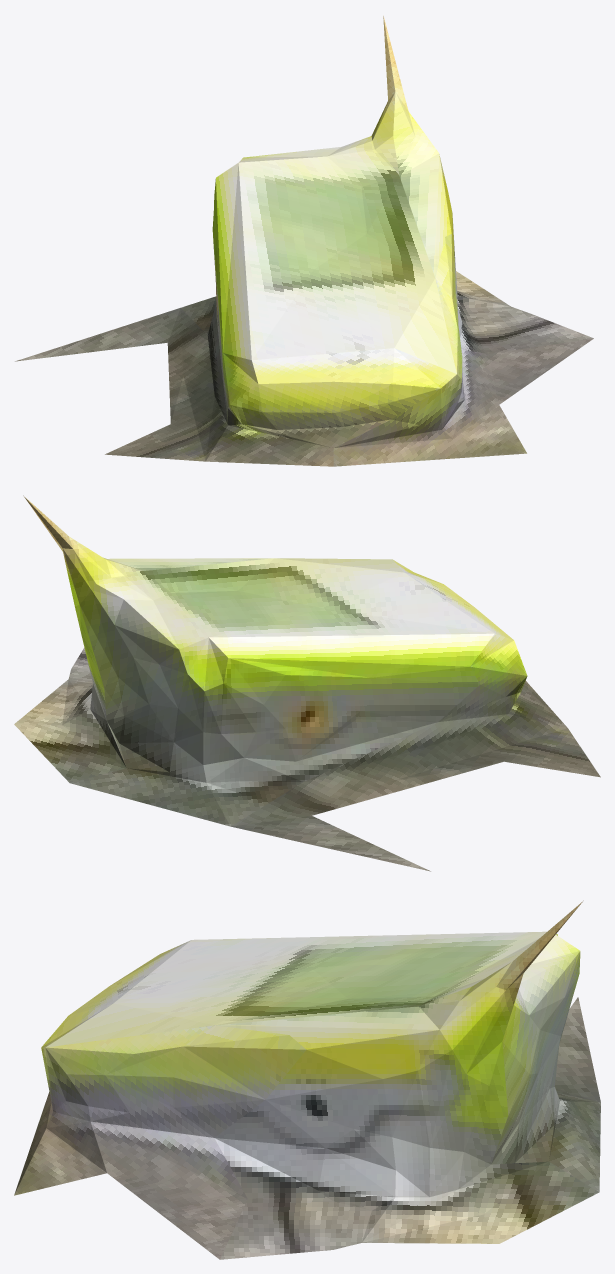
File: 1024-hacker.glb
3 views of the same model, one above another, from view 1: azimuth 30°, elevation 25°; view 2: azimuth 150°, elevation 25°; view 3: azimuth 270°, elevation 25° (orthographic). The views are drawn at different scales.
Visible parts, largest first — view 1: Mesh_0; view 2: Mesh_0; view 3: Mesh_0.
Part boxes in pixels (box(x1,y1,x2,y2)): Mesh_0: box(15, 15, 593, 466); Mesh_0: box(14, 495, 600, 871); Mesh_0: box(14, 900, 600, 1259).
Bounding box in the file's own units: 0.1895 × 0.0997 × 0.1548.
Materials: 1 (1 with a texture image).
